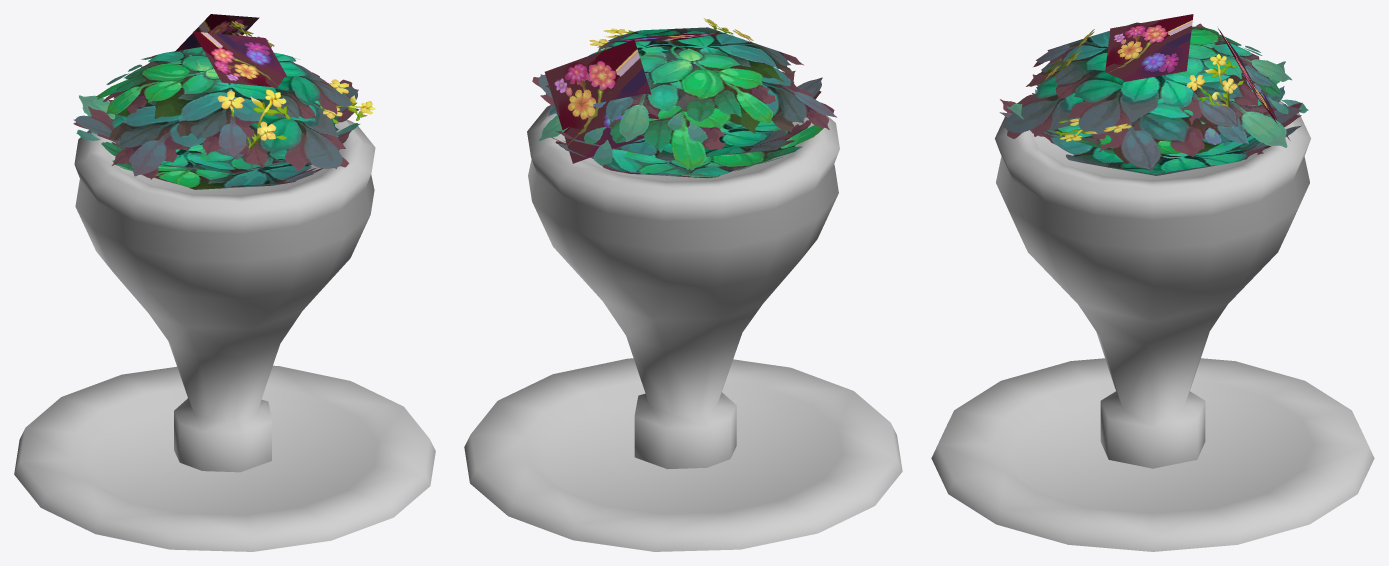
File: huatan.FBX
3 views of the same model, side by side, from view 1: azimuth 30°, elevation 25°; view 2: azimuth 150°, elevation 25°; view 3: azimuth 270°, elevation 25° (orthographic). The views are drawn at different scales.
Parts seen in each view (by area): view 1: huatan, dizuo; view 2: huatan, dizuo; view 3: huatan, dizuo.
Boxes of the visible parts, x1=… form: huatan: x1=73, y1=14, x2=375, y2=472; dizuo: x1=14, y1=365, x2=435, y2=551; huatan: x1=527, y1=18, x2=839, y2=469; dizuo: x1=464, y1=358, x2=902, y2=551; huatan: x1=995, y1=14, x2=1310, y2=468; dizuo: x1=931, y1=358, x2=1374, y2=551.
Bounding box in the file's own units: 152 × 167 × 152.
